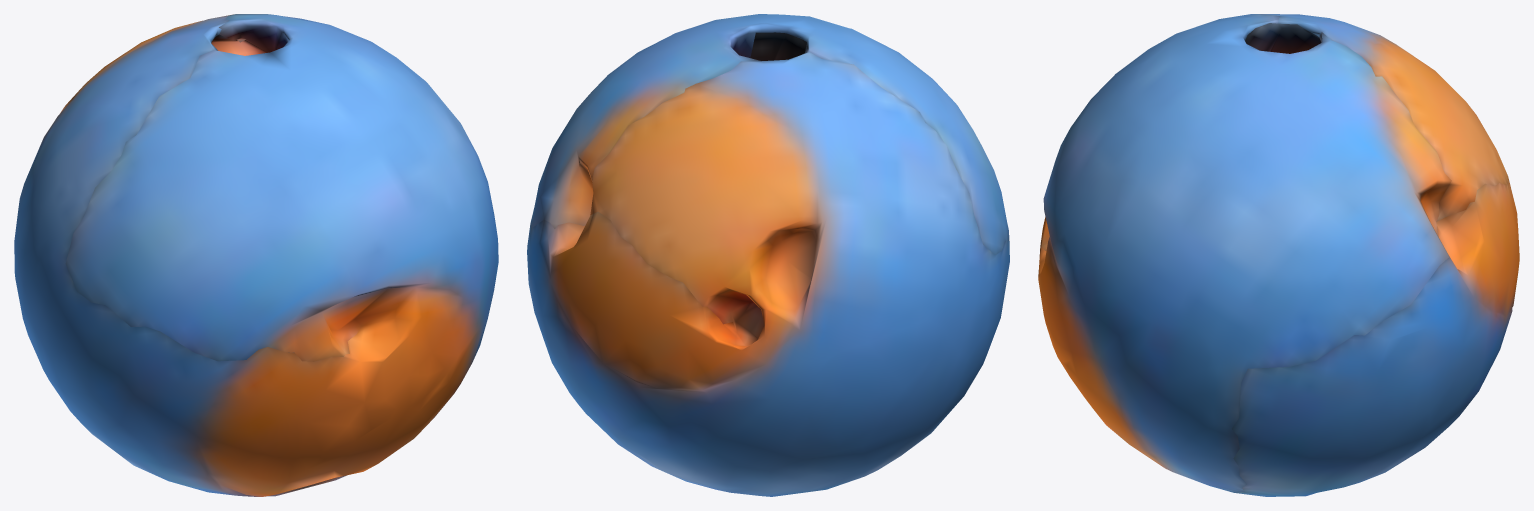
The model's file is Toys_R_Us_Treat_Dispenser_Smart_Puzzle_Foobler-medium.glb.
3 views of the same model, side by side, from view 1: azimuth 30°, elevation 25°; view 2: azimuth 150°, elevation 25°; view 3: azimuth 270°, elevation 25° (orthographic).
Parts seen in each view (by area): view 1: Toys_R_Us_Treat_Dispenser_Smart_Puzzle_Foobler; view 2: Toys_R_Us_Treat_Dispenser_Smart_Puzzle_Foobler; view 3: Toys_R_Us_Treat_Dispenser_Smart_Puzzle_Foobler.
Boxes of the visible parts, x1,y1,x2,y2 form: Toys_R_Us_Treat_Dispenser_Smart_Puzzle_Foobler: [14, 14, 498, 496]; Toys_R_Us_Treat_Dispenser_Smart_Puzzle_Foobler: [527, 14, 1009, 496]; Toys_R_Us_Treat_Dispenser_Smart_Puzzle_Foobler: [1038, 14, 1519, 496].
Bounding box in the file's own units: 0.1546 × 0.1533 × 0.1539.
1 material, 1 textured.
